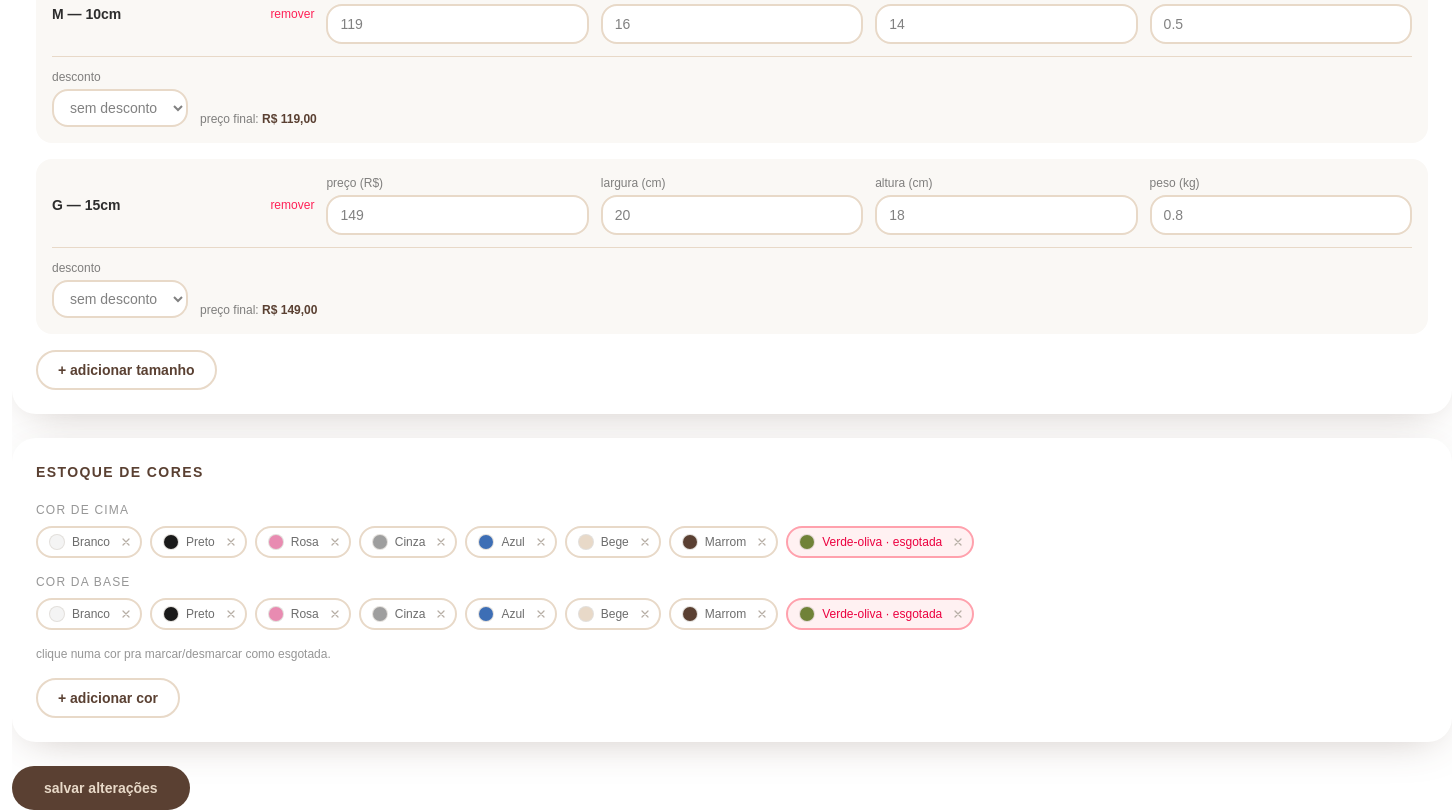
Test: ProdutoForm — preço/desconto por tamanho › mostra erro quando o PATCH falha
(page scrolled)
Click the button "salvar alterações" at (101, 788), box left=12, top=766, right=190, bottom=809
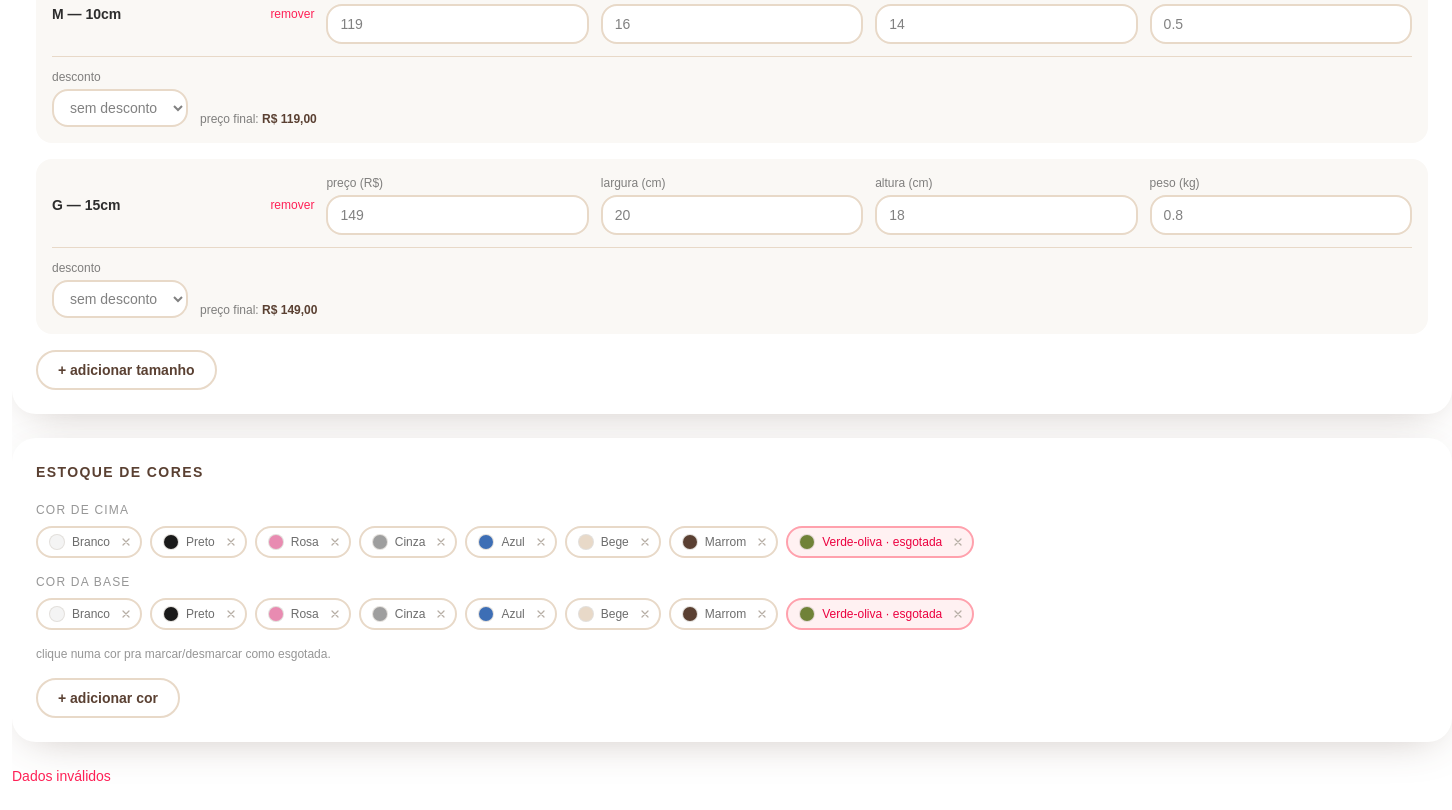
Check: the text "Dados inválidos" is shown, box left=12, top=768, right=111, bottom=784
